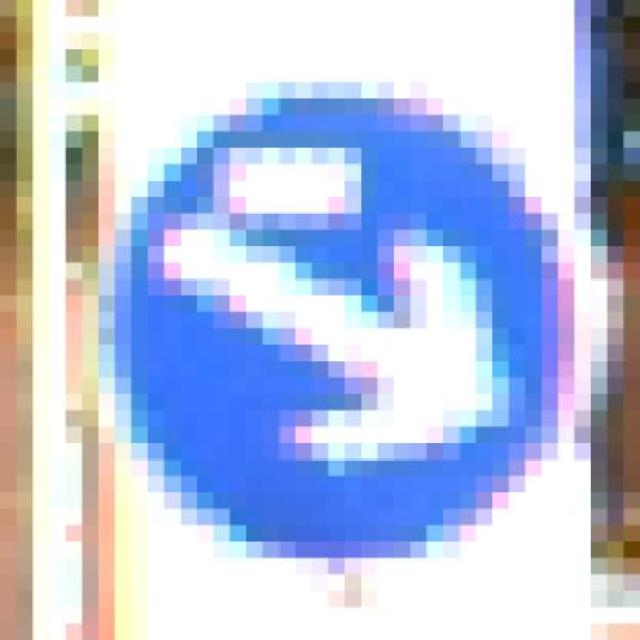Keep-Right: (82, 98, 624, 591)
